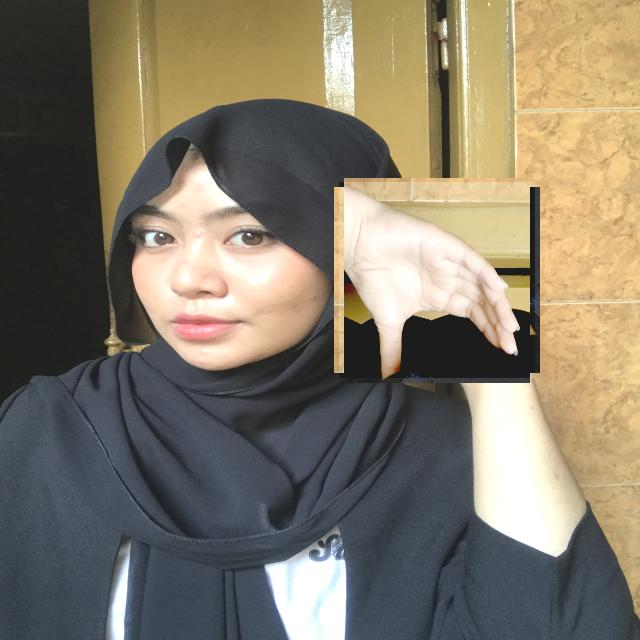mendengar: (339, 182, 535, 378)
